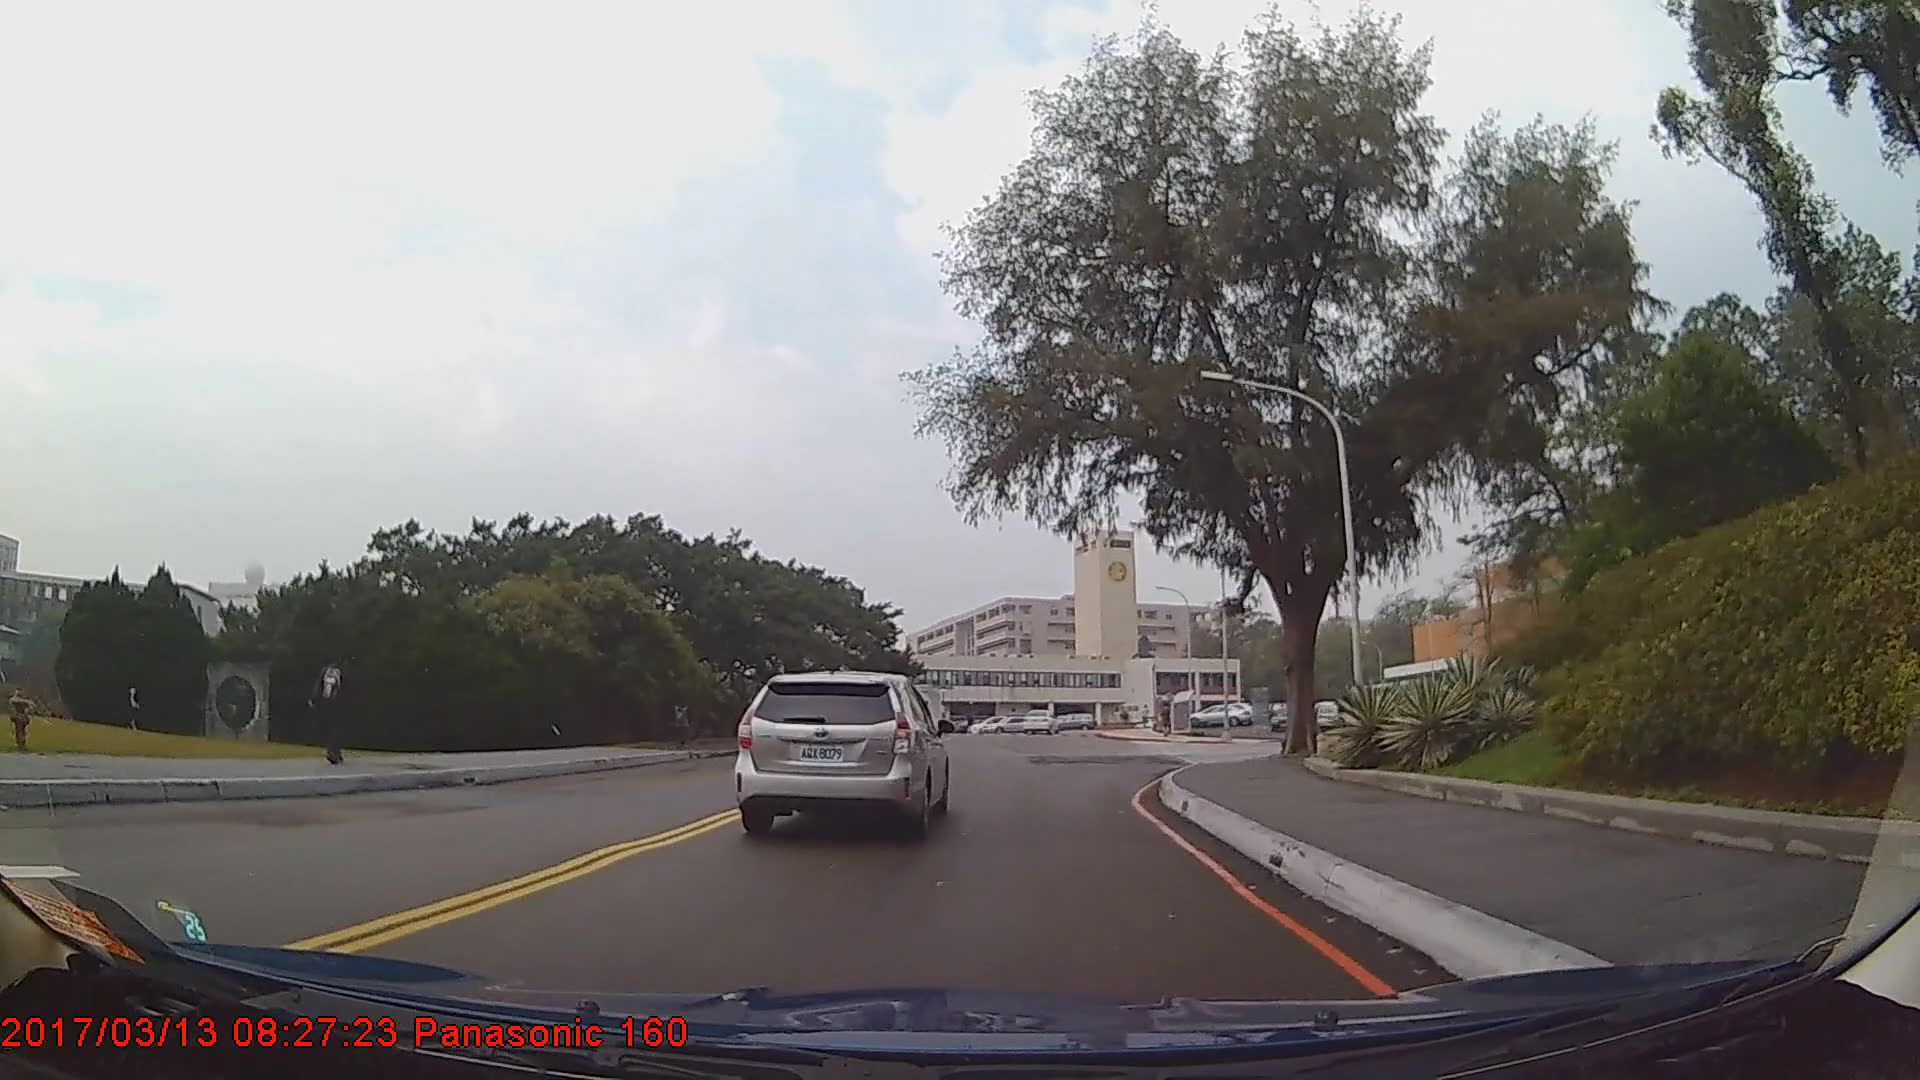pedestrian: (307, 645, 359, 764)
vehicle: (734, 668, 949, 839), (1187, 704, 1247, 728), (978, 711, 1033, 736), (1019, 706, 1061, 733), (1311, 702, 1339, 729), (1267, 706, 1293, 730)
